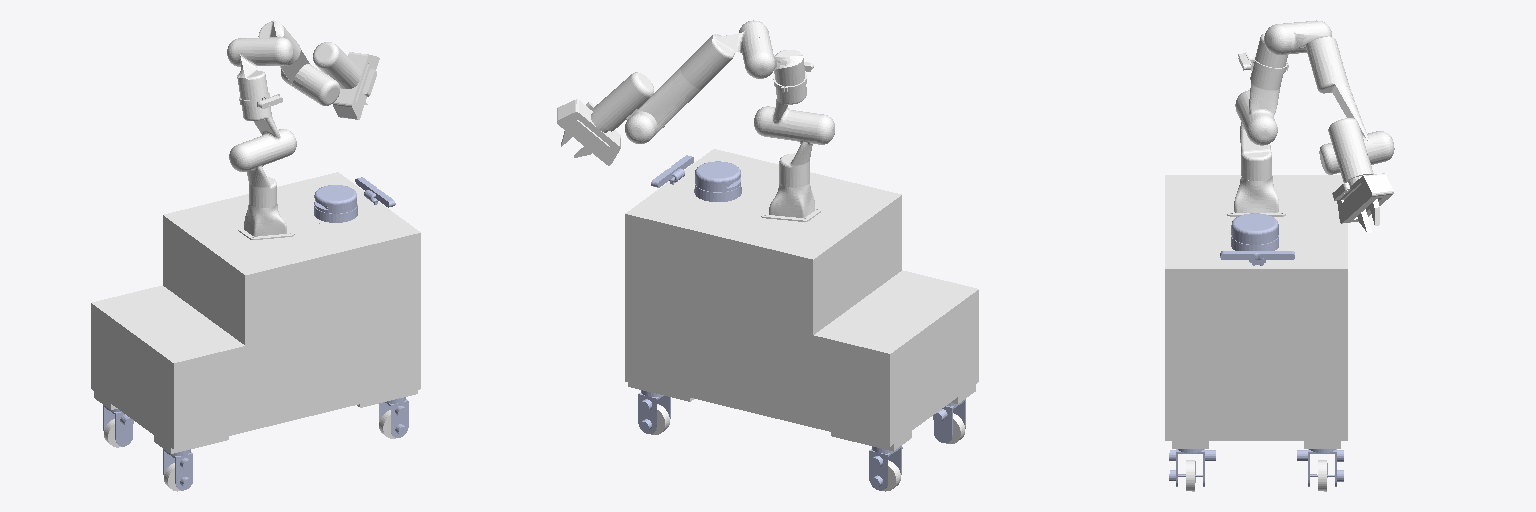
URDF robot description (model_urdf):
<?xml version="1.0" encoding="utf-8"?>
<!-- This URDF was automatically created by SolidWorks to URDF Exporter! Originally created by [author] ([email redacted]) 
     Commit Version: 1.6.0-4-g7f85cfe  Build Version: 1.6.7995.38578
     For more information, please see http://wiki.ros.org/sw_urdf_exporter -->
<robot
  name="model_urdf">
  <link
    name="base_link">
    <inertial>
      <origin
        xyz="0.0614036145891947 -0.0311590475123982 0.286261746786977"
        rpy="0 0 0" />
      <mass
        value="298.509233547966" />
      <inertia
        ixx="16.4208301469345"
        ixy="1.71186117058143E-16"
        ixz="-2.93790138588193"
        iyy="29.6107636526538"
        iyz="-1.00527893408859E-15"
        izz="29.8332638698603" />
    </inertial>
    <visual>
      <origin
        xyz="0 0 0"
        rpy="0 0 0" />
      <geometry>
        <mesh
          filename="package://model_urdf/meshes/base_link.STL" />
      </geometry>
      <material
        name="">
        <color
          rgba="1 1 1 1" />
      </material>
    </visual>
    <collision>
      <origin
        xyz="0 0 0"
        rpy="0 0 0" />
      <geometry>
        <mesh
          filename="package://model_urdf/meshes/base_link.STL" />
      </geometry>
    </collision>
  </link>
  <link
    name="1_Link">
    <inertial>
      <origin
        xyz="1.60697218087869E-05 0.00116628369507032 -0.0451354129709601"
        rpy="0 0 0" />
      <mass
        value="0.364069888756909" />
      <inertia
        ixx="0.00115200393636405"
        ixy="-5.4918442620808E-06"
        ixz="1.28438032282803E-06"
        iyy="0.000753500931575538"
        iyz="9.32157909548577E-05"
        izz="0.000668038074921814" />
    </inertial>
    <visual>
      <origin
        xyz="0 0 0"
        rpy="0 0 0" />
      <geometry>
        <mesh
          filename="package://model_urdf/meshes/1_Link.STL" />
      </geometry>
      <material
        name="">
        <color
          rgba="0.792156862745098 0.819607843137255 0.933333333333333 1" />
      </material>
    </visual>
    <collision>
      <origin
        xyz="0 0 0"
        rpy="0 0 0" />
      <geometry>
        <mesh
          filename="package://model_urdf/meshes/1_Link.STL" />
      </geometry>
    </collision>
  </link>
  <joint
    name="1_joint"
    type="continuous">
    <origin
      xyz="0.441995939294503 0.178840952487607 -0.0229999999999991"
      rpy="0 0 0" />
    <parent
      link="base_link" />
    <child
      link="1_Link" />
    <axis
      xyz="0 0 1" />
  </joint>
  <link
    name="1wheel_Link">
    <inertial>
      <origin
        xyz="8.88178419700125E-16 -4.71844785465692E-16 2.77555756156289E-17"
        rpy="0 0 0" />
      <mass
        value="0.234111484545512" />
      <inertia
        ixx="0.000164839103436489"
        ixy="1.78671052407495E-06"
        ixz="-3.49968625771008E-20"
        iyy="0.000294487629241806"
        iyz="-4.36087566108968E-19"
        izz="0.00016481448512004" />
    </inertial>
    <visual>
      <origin
        xyz="0 0 0"
        rpy="0 0 0" />
      <geometry>
        <mesh
          filename="package://model_urdf/meshes/1wheel_Link.STL" />
      </geometry>
      <material
        name="">
        <color
          rgba="1 1 1 1" />
      </material>
    </visual>
    <collision>
      <origin
        xyz="0 0 0"
        rpy="0 0 0" />
      <geometry>
        <mesh
          filename="package://model_urdf/meshes/1wheel_Link.STL" />
      </geometry>
    </collision>
  </link>
  <joint
    name="1wheel_joint"
    type="continuous">
    <origin
      xyz="0 0 -0.126"
      rpy="0 0 0" />
    <parent
      link="1_Link" />
    <child
      link="1wheel_Link" />
    <axis
      xyz="-0.999115087651117 -0.042059976556111 0" />
  </joint>
  <link
    name="2_Link">
    <inertial>
      <origin
        xyz="-1.95522219614275E-05 -0.00116623051064699 -0.0451354129709601"
        rpy="0 0 0" />
      <mass
        value="0.364069888756909" />
      <inertia
        ixx="0.00115196758552763"
        ixy="-6.68168762785519E-06"
        ixz="-1.56272083948835E-06"
        iyy="0.000753537282411958"
        iyz="-9.32115401639264E-05"
        izz="0.000668038074921814" />
    </inertial>
    <visual>
      <origin
        xyz="0 0 0"
        rpy="0 0 0" />
      <geometry>
        <mesh
          filename="package://model_urdf/meshes/2_Link.STL" />
      </geometry>
      <material
        name="">
        <color
          rgba="0.792156862745098 0.819607843137255 0.933333333333333 1" />
      </material>
    </visual>
    <collision>
      <origin
        xyz="0 0 0"
        rpy="0 0 0" />
      <geometry>
        <mesh
          filename="package://model_urdf/meshes/2_Link.STL" />
      </geometry>
    </collision>
  </link>
  <joint
    name="2_joint"
    type="continuous">
    <origin
      xyz="0.441995939294505 -0.241159047512393 -0.0229999999999976"
      rpy="0 0 0" />
    <parent
      link="base_link" />
    <child
      link="2_Link" />
    <axis
      xyz="0 0 1" />
  </joint>
  <link
    name="2wheel_Link">
    <inertial>
      <origin
        xyz="-7.7715611723761E-16 -5.55111512312578E-17 -2.77555756156289E-17"
        rpy="0 0 0" />
      <mass
        value="0.234111484545512" />
      <inertia
        ixx="0.000164850929777312"
        ixy="2.17381284565927E-06"
        ixz="-6.0687362562351E-20"
        iyy="0.000294475802900982"
        iyz="-4.31286988801787E-19"
        izz="0.00016481448512004" />
    </inertial>
    <visual>
      <origin
        xyz="0 0 0"
        rpy="0 0 0" />
      <geometry>
        <mesh
          filename="package://model_urdf/meshes/2wheel_Link.STL" />
      </geometry>
      <material
        name="">
        <color
          rgba="1 1 1 1" />
      </material>
    </visual>
    <collision>
      <origin
        xyz="0 0 0"
        rpy="0 0 0" />
      <geometry>
        <mesh
          filename="package://model_urdf/meshes/2wheel_Link.STL" />
      </geometry>
    </collision>
  </link>
  <joint
    name="2wheel_joint"
    type="continuous">
    <origin
      xyz="0 0 -0.126"
      rpy="0 0 0" />
    <parent
      link="2_Link" />
    <child
      link="2wheel_Link" />
    <axis
      xyz="-0.469475282854675 0.882945614853215 0" />
  </joint>
  <link
    name="3_Link">
    <inertial>
      <origin
        xyz="1.14559204554832E-05 0.00116633813932027 -0.0451354129709601"
        rpy="0 0 0" />
      <mass
        value="0.364069888756909" />
      <inertia
        ixx="0.00115204114999134"
        ixy="-3.91525557933936E-06"
        ixz="9.15620008164253E-07"
        iyy="0.00075346371794825"
        iyz="9.32201424379628E-05"
        izz="0.000668038074921814" />
    </inertial>
    <visual>
      <origin
        xyz="0 0 0"
        rpy="0 0 0" />
      <geometry>
        <mesh
          filename="package://model_urdf/meshes/3_Link.STL" />
      </geometry>
      <material
        name="">
        <color
          rgba="0.792156862745098 0.819607843137255 0.933333333333333 1" />
      </material>
    </visual>
    <collision>
      <origin
        xyz="0 0 0"
        rpy="0 0 0" />
      <geometry>
        <mesh
          filename="package://model_urdf/meshes/3_Link.STL" />
      </geometry>
    </collision>
  </link>
  <joint
    name="3_joint"
    type="continuous">
    <origin
      xyz="-0.428004060705497 0.178840952487604 -0.0230000000000021"
      rpy="0 0 0" />
    <parent
      link="base_link" />
    <child
      link="3_Link" />
    <axis
      xyz="0 0 1" />
  </joint>
  <link
    name="3wheel_Link">
    <inertial>
      <origin
        xyz="-4.44089209850063E-16 -3.60822483003176E-16 0"
        rpy="0 0 0" />
      <mass
        value="0.234111484545512" />
      <inertia
        ixx="0.000164826996396241"
        ixy="1.27378490980699E-06"
        ixz="-2.67378742371781E-20"
        iyy="0.000294499736282053"
        iyz="-4.80888916955773E-19"
        izz="0.00016481448512004" />
    </inertial>
    <visual>
      <origin
        xyz="0 0 0"
        rpy="0 0 0" />
      <geometry>
        <mesh
          filename="package://model_urdf/meshes/3wheel_Link.STL" />
      </geometry>
      <material
        name="">
        <color
          rgba="1 1 1 1" />
      </material>
    </visual>
    <collision>
      <origin
        xyz="0 0 0"
        rpy="0 0 0" />
      <geometry>
        <mesh
          filename="package://model_urdf/meshes/3wheel_Link.STL" />
      </geometry>
    </collision>
  </link>
  <joint
    name="3wheel_joint"
    type="continuous">
    <origin
      xyz="0 0 -0.126"
      rpy="0 0 0" />
    <parent
      link="3_Link" />
    <child
      link="3wheel_Link" />
    <axis
      xyz="-0.907981805842857 -0.419009594470513 0" />
  </joint>
  <link
    name="4_Link">
    <inertial>
      <origin
        xyz="-1.06379015178959E-05 -0.00116634588711875 -0.0451354129709582"
        rpy="0 0 0" />
      <mass
        value="0.364069888756909" />
      <inertia
        ixx="0.00115204644589235"
        ixy="-3.63570785126693E-06"
        ixz="-8.50239447108493E-07"
        iyy="0.000753458422047238"
        iyz="-9.32207616844879E-05"
        izz="0.000668038074921815" />
    </inertial>
    <visual>
      <origin
        xyz="0 0 0"
        rpy="0 0 0" />
      <geometry>
        <mesh
          filename="package://model_urdf/meshes/4_Link.STL" />
      </geometry>
      <material
        name="">
        <color
          rgba="0.792156862745098 0.819607843137255 0.933333333333333 1" />
      </material>
    </visual>
    <collision>
      <origin
        xyz="0 0 0"
        rpy="0 0 0" />
      <geometry>
        <mesh
          filename="package://model_urdf/meshes/4_Link.STL" />
      </geometry>
    </collision>
  </link>
  <joint
    name="4_joint"
    type="continuous">
    <origin
      xyz="-0.428004060705495 -0.241159047512396 -0.0230000000000009"
      rpy="0 0 0" />
    <parent
      link="base_link" />
    <child
      link="4_Link" />
    <axis
      xyz="0 0 1" />
  </joint>
  <link
    name="4wheel_Link">
    <inertial>
      <origin
        xyz="-5.55111512312578E-17 7.21644966006352E-16 3.60822483003176E-16"
        rpy="0 0 0" />
      <mass
        value="0.234111484545512" />
      <inertia
        ixx="0.000164825273433677"
        ixy="1.18283716185713E-06"
        ixz="2.32577647904679E-20"
        iyy="0.000294501459244617"
        iyz="-4.52457267069688E-19"
        izz="0.00016481448512004" />
    </inertial>
    <visual>
      <origin
        xyz="0 0 0"
        rpy="0 0 0" />
      <geometry>
        <mesh
          filename="package://model_urdf/meshes/4wheel_Link.STL" />
      </geometry>
      <material
        name="">
        <color
          rgba="1 1 1 1" />
      </material>
    </visual>
    <collision>
      <origin
        xyz="0 0 0"
        rpy="0 0 0" />
      <geometry>
        <mesh
          filename="package://model_urdf/meshes/4wheel_Link.STL" />
      </geometry>
    </collision>
  </link>
  <joint
    name="4wheel_joint"
    type="continuous">
    <origin
      xyz="0 0 -0.126"
      rpy="0 0 0" />
    <parent
      link="4_Link" />
    <child
      link="4wheel_Link" />
    <axis
      xyz="0.54221 0.84025 0" />
  </joint>
  <link
    name="arm_Link">
    <inertial>
      <origin
        xyz="0.191064265563844 0.189272489662822 -0.123591835779442"
        rpy="0 0 0" />
      <mass
        value="14.0185899347046" />
      <inertia
        ixx="0.0803961333344776"
        ixy="-0.0147701962245957"
        ixz="0.0157347050889354"
        iyy="0.0799889560140923"
        iyz="0.00505537325218257"
        izz="0.0584494594785273" />
    </inertial>
    <visual>
      <origin
        xyz="0 0 0"
        rpy="0 0 0" />
      <geometry>
        <mesh
          filename="package://model_urdf/meshes/arm_Link.STL" />
      </geometry>
      <material
        name="">
        <color
          rgba="1 1 1 1" />
      </material>
    </visual>
    <collision>
      <origin
        xyz="0 0 0"
        rpy="0 0 0" />
      <geometry>
        <mesh
          filename="package://model_urdf/meshes/arm_Link.STL" />
      </geometry>
    </collision>
  </link>
  <joint
    name="arm_joint"
    type="fixed">
    <origin
      xyz="0.04041 -0.058485 1.1182"
      rpy="0 0 0" />
    <parent
      link="base_link" />
    <child
      link="arm_Link" />
    <axis
      xyz="0 0 0" />
  </joint>
  <link
    name="laser_Link">
    <inertial>
      <origin
        xyz="0.00102572491313929 -0.049999998301415 0.0436962446755098"
        rpy="0 0 0" />
      <mass
        value="1.59092590333983" />
      <inertia
        ixx="0.00338320624461693"
        ixy="-2.00339805124173E-11"
        ixz="-3.06850534360552E-05"
        iyy="0.00330959957297259"
        iyz="1.63169725636016E-10"
        izz="0.00453491010532219" />
    </inertial>
    <visual>
      <origin
        xyz="0 0 0"
        rpy="0 0 0" />
      <geometry>
        <mesh
          filename="package://model_urdf/meshes/laser_Link.STL" />
      </geometry>
      <material
        name="">
        <color
          rgba="0.792156862745098 0.819607843137255 0.933333333333333 1" />
      </material>
    </visual>
    <collision>
      <origin
        xyz="0 0 0"
        rpy="0 0 0" />
      <geometry>
        <mesh
          filename="package://model_urdf/meshes/laser_Link.STL" />
      </geometry>
    </collision>
  </link>
  <joint
    name="laser_jont"
    type="fixed">
    <origin
      xyz="0.327 0.013841 0.59808"
      rpy="0 0 0" />
    <parent
      link="base_link" />
    <child
      link="laser_Link" />
    <axis
      xyz="0 0 0" />
  </joint>
  <link
    name="camera_Link">
    <inertial>
      <origin
        xyz="-0.0158609426134609 3.77800140321377E-07 -0.00303911988526284"
        rpy="0 0 0" />
      <mass
        value="0.168019718296732" />
      <inertia
        ixx="0.00063541281818983"
        ixy="-1.1952807983635E-09"
        ixz="-4.86668399890799E-06"
        iyy="3.19165088546913E-05"
        iyz="3.04177197927283E-09"
        izz="0.000637382388778405" />
    </inertial>
    <visual>
      <origin
        xyz="0 0 0"
        rpy="0 0 0" />
      <geometry>
        <mesh
          filename="package://model_urdf/meshes/camera_Link.STL" />
      </geometry>
      <material
        name="">
        <color
          rgba="0.792156862745098 0.819607843137255 0.933333333333333 1" />
      </material>
    </visual>
    <collision>
      <origin
        xyz="0 0 0"
        rpy="0 0 0" />
      <geometry>
        <mesh
          filename="package://model_urdf/meshes/camera_Link.STL" />
      </geometry>
    </collision>
  </link>
  <joint
    name="camera_joint"
    type="fixed">
    <origin
      xyz="0.50458 -0.027377 0.648"
      rpy="0 0 0" />
    <parent
      link="base_link" />
    <child
      link="camera_Link" />
    <axis
      xyz="0 0 0" />
  </joint>
</robot>

--- Render facts (derived) ---
Views: 3 orthographic renders of the robot side by side, from view 1: azimuth 30°, elevation 25°; view 2: azimuth 150°, elevation 25°; view 3: azimuth 270°, elevation 25°.
Robot: model_urdf — 12 links, 11 joints (8 continuous, 3 fixed); root link base_link; default pose: all joints at 0.
Links seen in each view (by area): view 1: base_link, arm_Link, laser_Link, 4_Link, 2_Link, 3_Link; view 2: base_link, arm_Link, laser_Link, 3_Link, 1_Link, 4_Link, camera_Link; view 3: base_link, arm_Link, laser_Link, camera_Link, 1_Link, 2_Link.
Boxes of the visible links, <box> form: base_link: <box>91,172,420,453</box>; arm_Link: <box>227,20,379,239</box>; laser_Link: <box>314,185,357,222</box>; 4_Link: <box>163,449,192,490</box>; 2_Link: <box>379,397,408,437</box>; 3_Link: <box>103,405,133,446</box>; base_link: <box>625,149,978,451</box>; arm_Link: <box>557,20,834,221</box>; laser_Link: <box>694,161,741,201</box>; 3_Link: <box>869,446,902,490</box>; 1_Link: <box>638,390,670,433</box>; 4_Link: <box>933,399,965,442</box>; camera_Link: <box>651,155,693,187</box>; base_link: <box>1165,175,1347,448</box>; arm_Link: <box>1227,20,1394,232</box>; laser_Link: <box>1231,213,1278,250</box>; camera_Link: <box>1220,251,1294,265</box>; 1_Link: <box>1297,449,1343,486</box>; 2_Link: <box>1169,449,1215,486</box>.
Size in the robot's own frame: 1.21 by 0.7288 by 1.49 metres.
Meshes: 12 distinct files referenced, 12 mesh visuals loaded (12 binary STL).